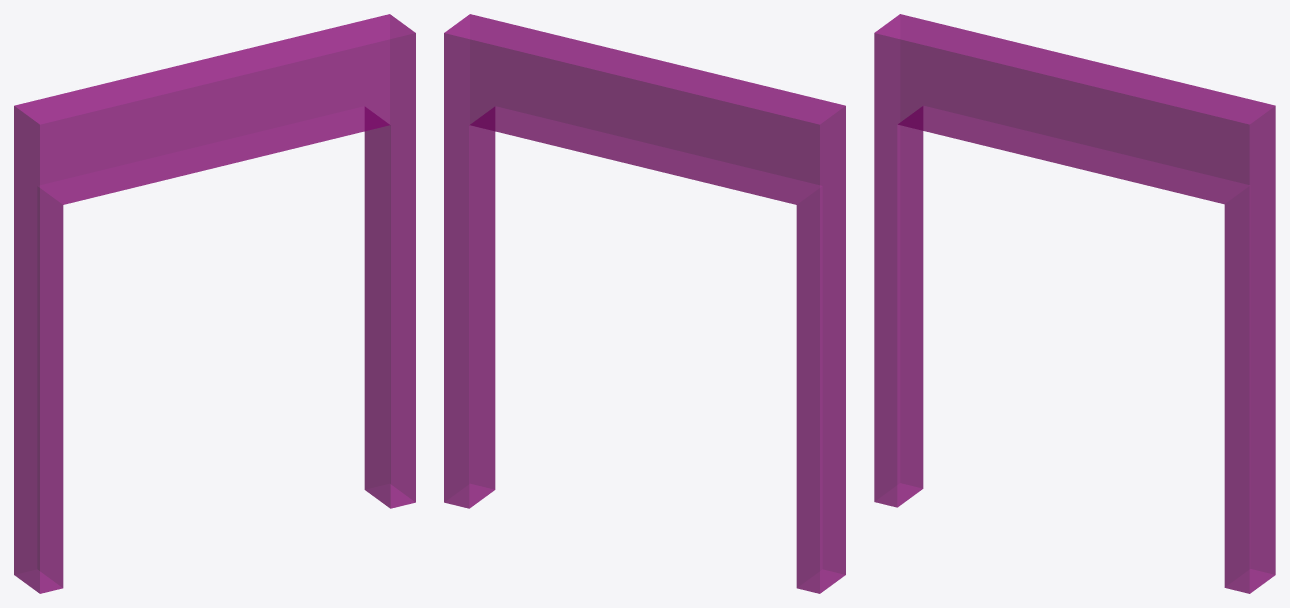
Rendered from SM_Bld_Base_Wall_Door_Double_Large_01_Collision.fbx.
3 renders of one model, left to right at view 1: azimuth 30°, elevation 25°; view 2: azimuth 150°, elevation 25°; view 3: azimuth 330°, elevation 25°, orthographic.
Parts seen in each view (by area): view 1: SM_Bld_Base_Wall_Door_Double_Large_01_Collision; view 2: SM_Bld_Base_Wall_Door_Double_Large_01_Collision; view 3: SM_Bld_Base_Wall_Door_Double_Large_01_Collision.
Boxes of the visible parts, x1,y1,x2,y2 form: SM_Bld_Base_Wall_Door_Double_Large_01_Collision: (14,14,415,593); SM_Bld_Base_Wall_Door_Double_Large_01_Collision: (444,14,845,593); SM_Bld_Base_Wall_Door_Double_Large_01_Collision: (874,14,1275,593).
Bounding box in the file's own units: 252 × 301 × 30.21.
